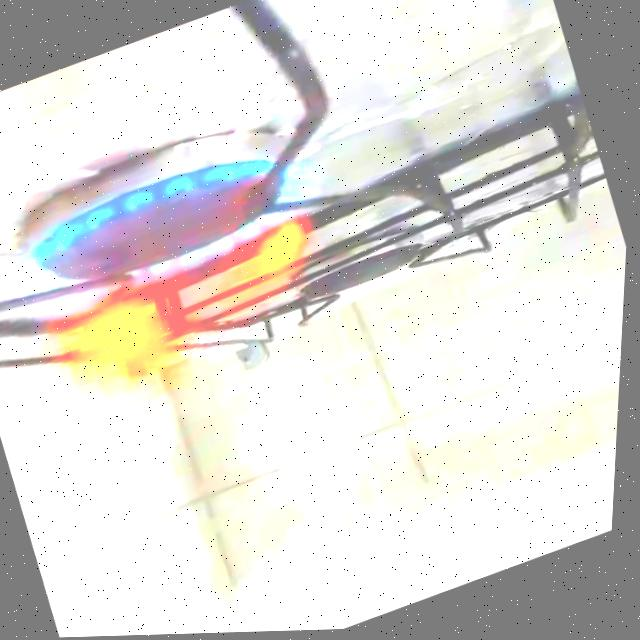Fire: (0, 126, 384, 461)
